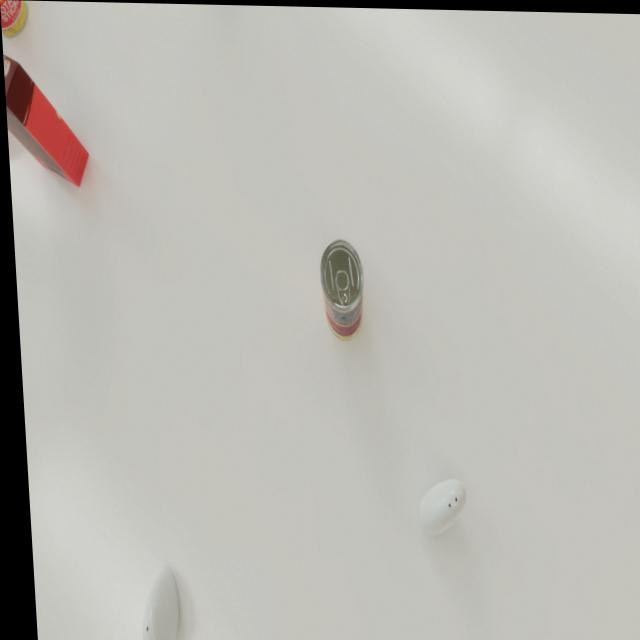HelloPanda: (2, 38, 89, 186)
Potato_sticks: (315, 237, 364, 340)
Salt: (131, 568, 173, 640), (411, 477, 462, 534)
